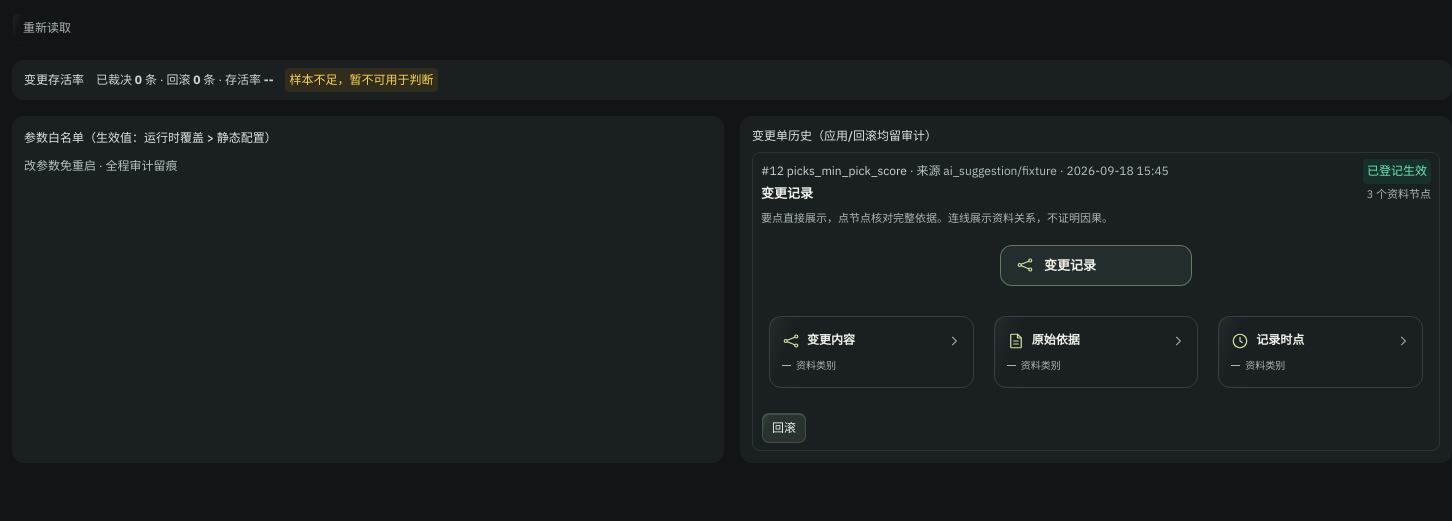
Test: 参数配置 · 独立读取 › 旧字典请求晚回不污染人工重新读取后的字典
Click the button "回滚" at (784, 428), box [761, 412, 807, 444]
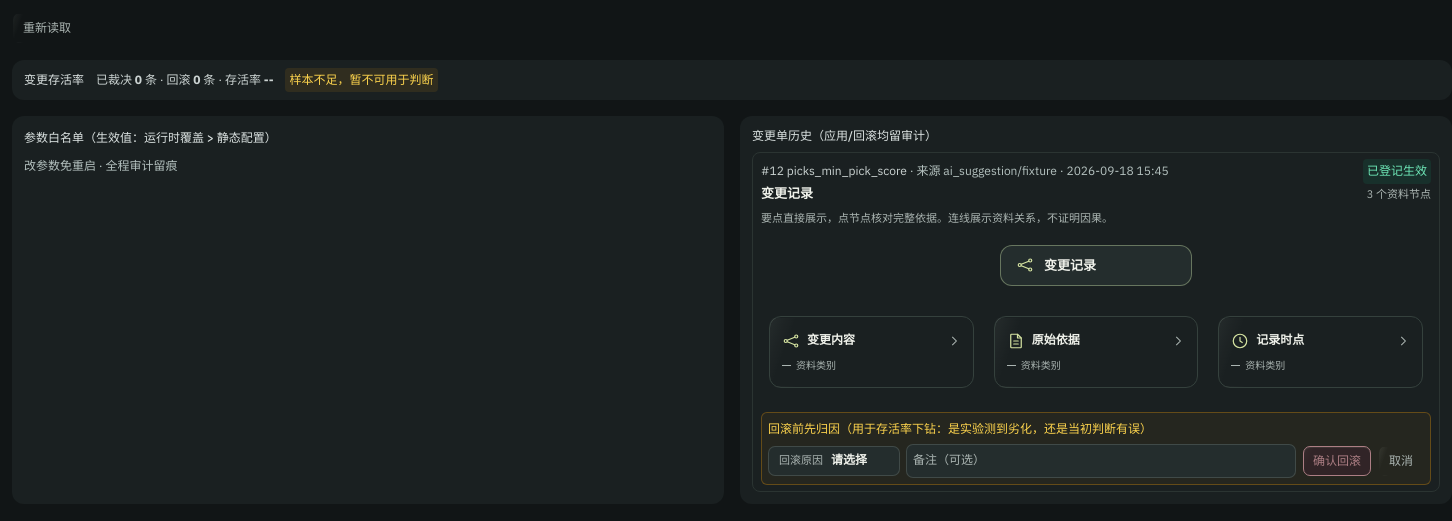
Click the button "重新读取" at (47, 28), box [12, 12, 82, 44]
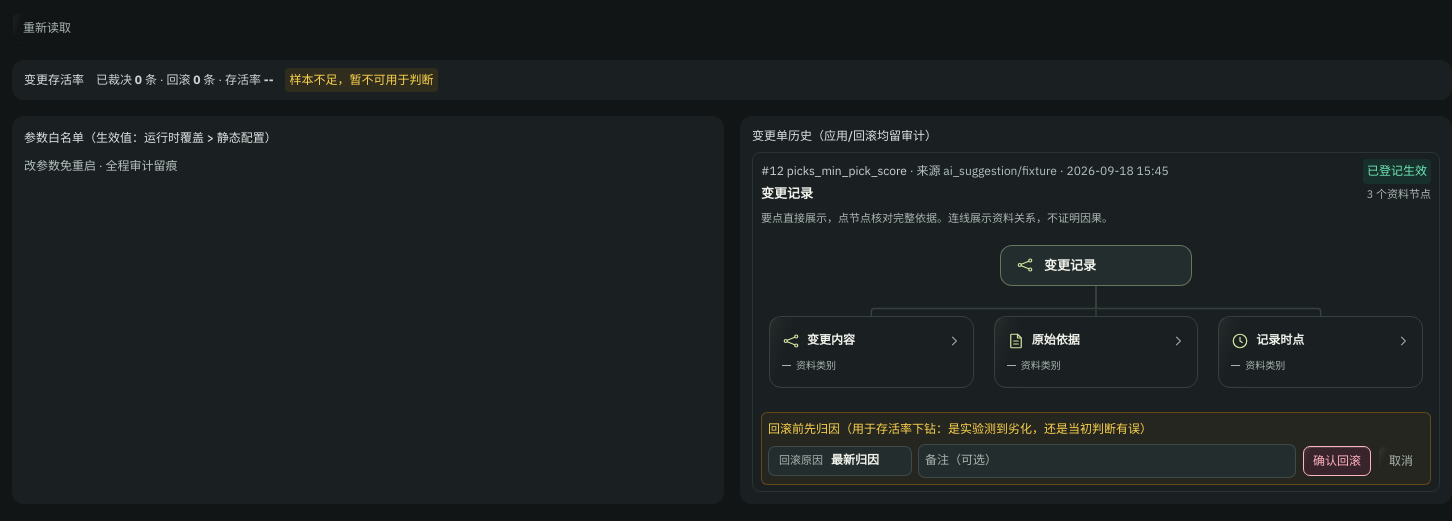
Result: the button with aria-label "回滚原因：最新归因" is shown at [768, 446, 912, 476]
